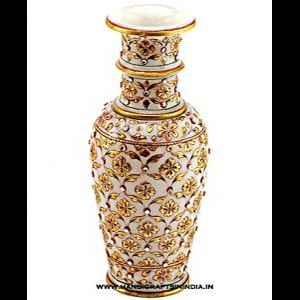flowerpot: (90, 4, 210, 298)
